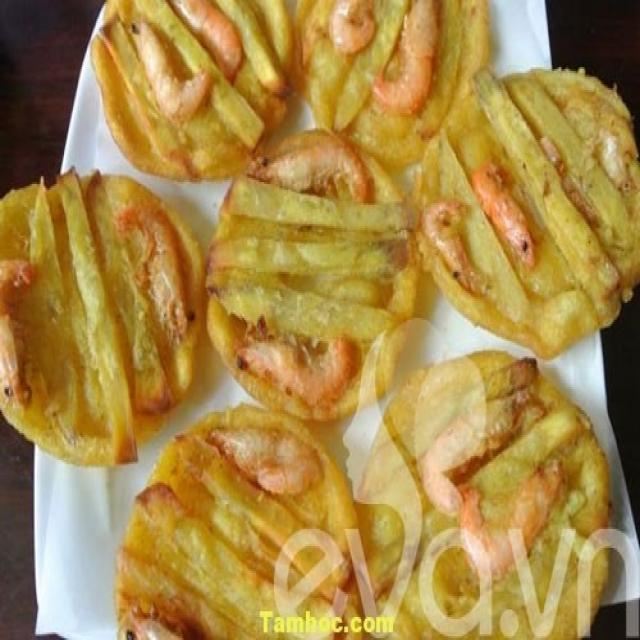炸货点心: (5, 9, 631, 630)
熟制海鲜: (5, 9, 631, 630)
